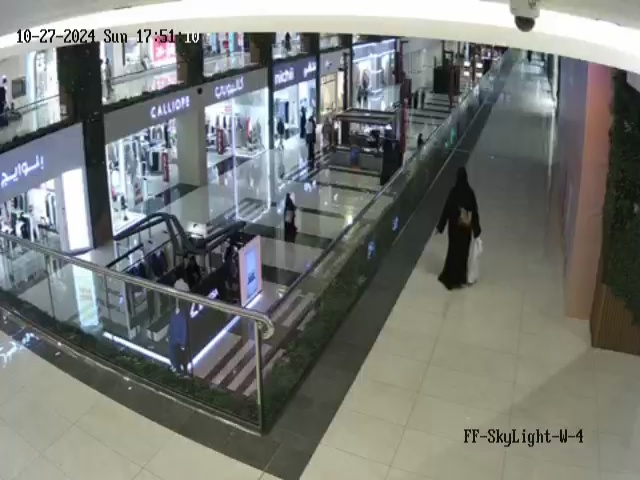female: (435, 166, 482, 291), (279, 192, 304, 248), (296, 102, 307, 143)
male: (273, 114, 290, 155), (302, 116, 318, 145)
other: (162, 303, 200, 386)
